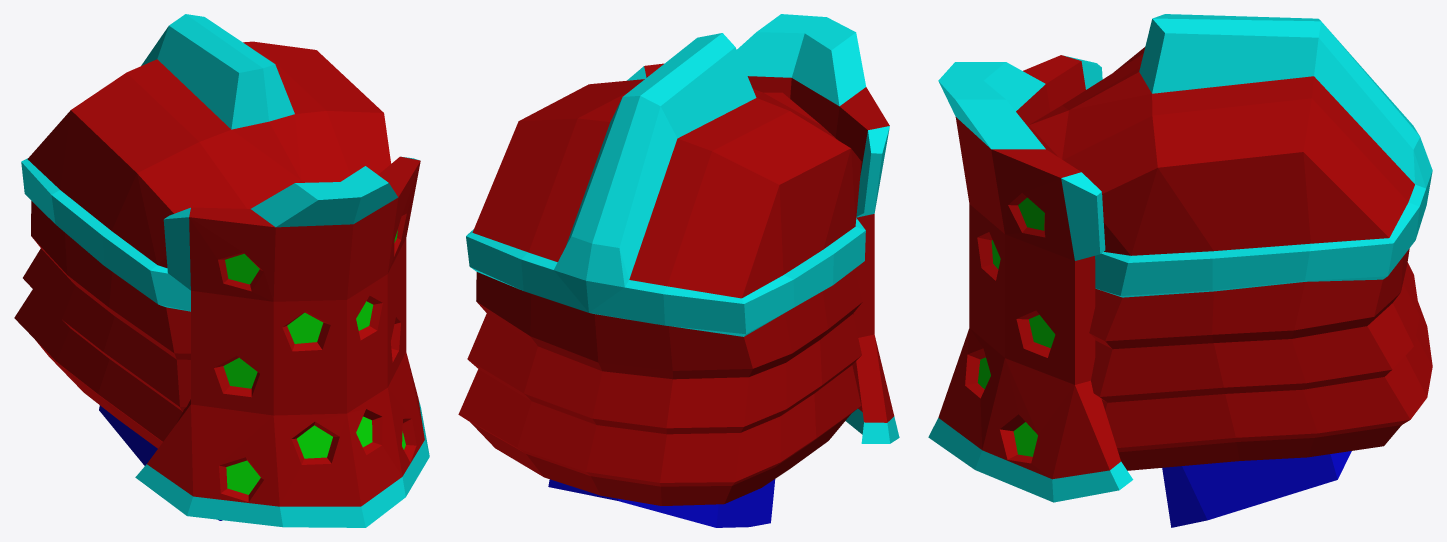
The model's file is Chr_Head_No_Elements_Male_Static_13.fbx.
The picture shows the model from 3 angles, left to right: view 1: azimuth 30°, elevation 25°; view 2: azimuth 150°, elevation 25°; view 3: azimuth 270°, elevation 25°; orthographic projection. The views are drawn at different scales.
Visible parts, largest first — view 1: Chr_Head_No_Elements_Male_13; view 2: Chr_Head_No_Elements_Male_13; view 3: Chr_Head_No_Elements_Male_13.
Boxes of the visible parts, left/top/right/bottom form: Chr_Head_No_Elements_Male_13: left=14, top=14, right=429, bottom=527; Chr_Head_No_Elements_Male_13: left=458, top=14, right=899, bottom=527; Chr_Head_No_Elements_Male_13: left=928, top=14, right=1432, bottom=527.
Size of the model in its own units: 25.1 by 37.97 by 35.22.
